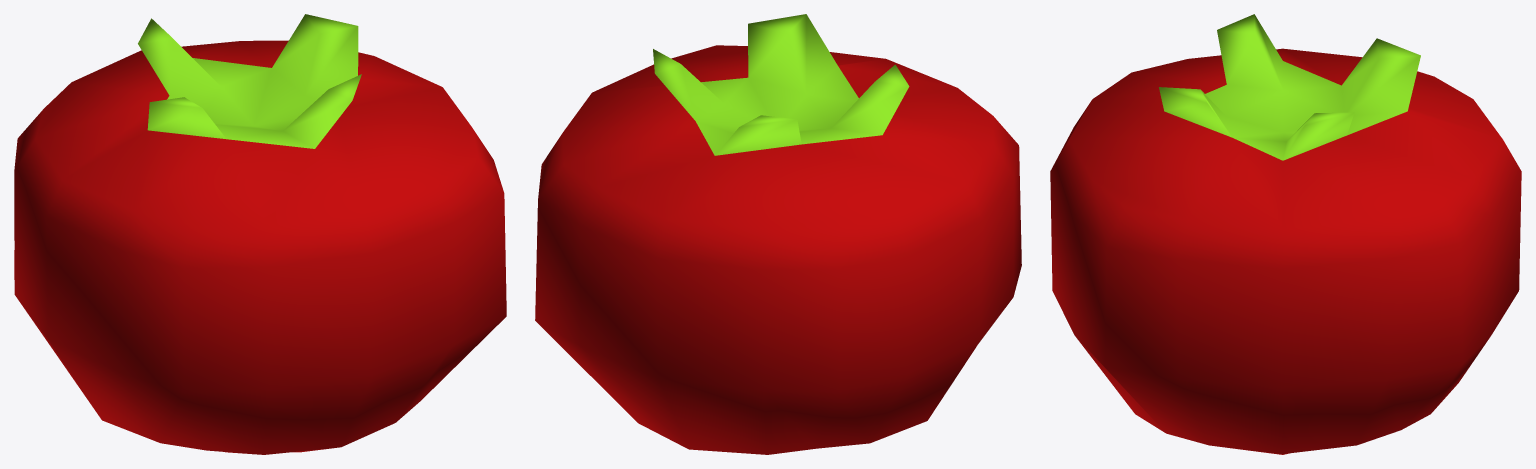
Rendered from Tomate.fbx.
3 renders of one model, left to right at view 1: azimuth 30°, elevation 25°; view 2: azimuth 150°, elevation 25°; view 3: azimuth 270°, elevation 25°, orthographic. The views are drawn at different scales.
Parts seen in each view (by area): view 1: Tomate; view 2: Tomate; view 3: Tomate.
Boxes of the visible parts, x1,y1,x2,y2 form: Tomate: (14, 14, 506, 454); Tomate: (535, 14, 1021, 454); Tomate: (1050, 14, 1521, 454).
Size of the model in its own units: 122 by 123 by 99.88.
